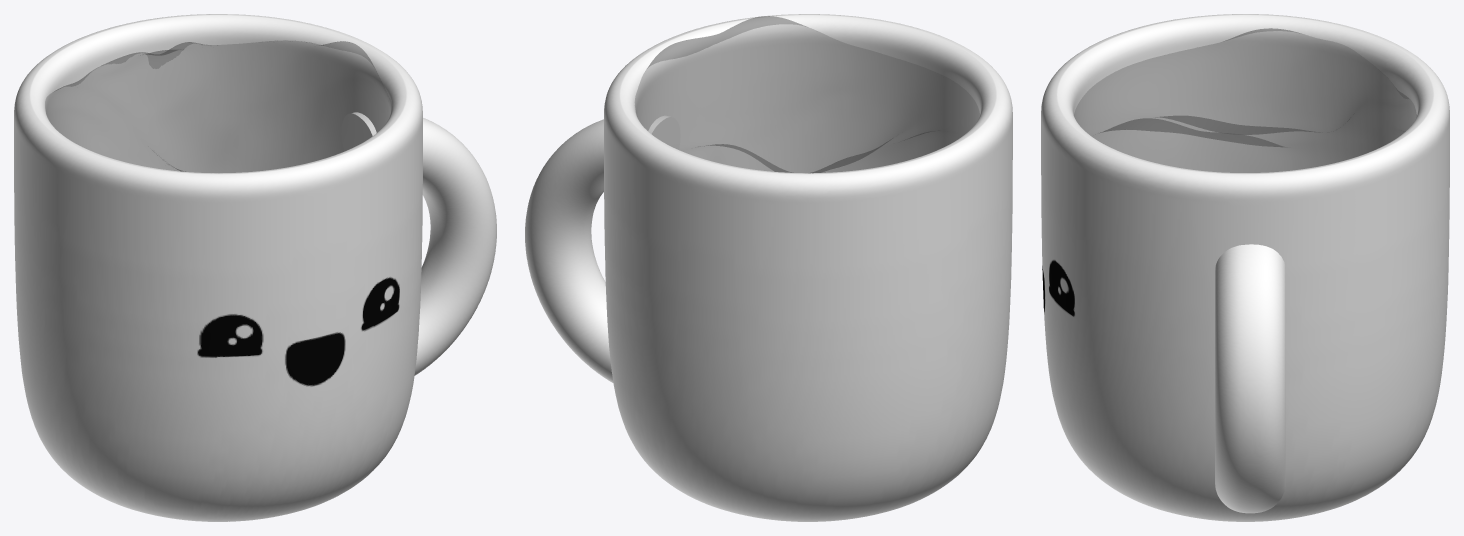
3 renders of one model, left to right at view 1: azimuth 30°, elevation 25°; view 2: azimuth 150°, elevation 25°; view 3: azimuth 270°, elevation 25°, orthographic.
Visible parts, largest first — view 1: mug, Circle.002; view 2: mug, Circle.002; view 3: mug, Circle.002.
Boxes of the visible parts, x1=… form: mug: x1=14, y1=14, x2=496, y2=521; Circle.002: x1=45, y1=40, x2=391, y2=172; mug: x1=525, y1=14, x2=1012, y2=521; Circle.002: x1=635, y1=16, x2=979, y2=173; mug: x1=1041, y1=14, x2=1449, y2=521; Circle.002: x1=1074, y1=28, x2=1416, y2=172.
Size of the model in its own units: 3.4 by 2.96 by 2.66.
Materials: 2 (1 with a texture image).
